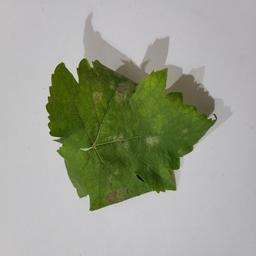Powdery-Mildew: (102, 125, 136, 155), (140, 80, 168, 113), (100, 180, 128, 204), (89, 85, 106, 101), (178, 109, 195, 125), (146, 131, 162, 147)
